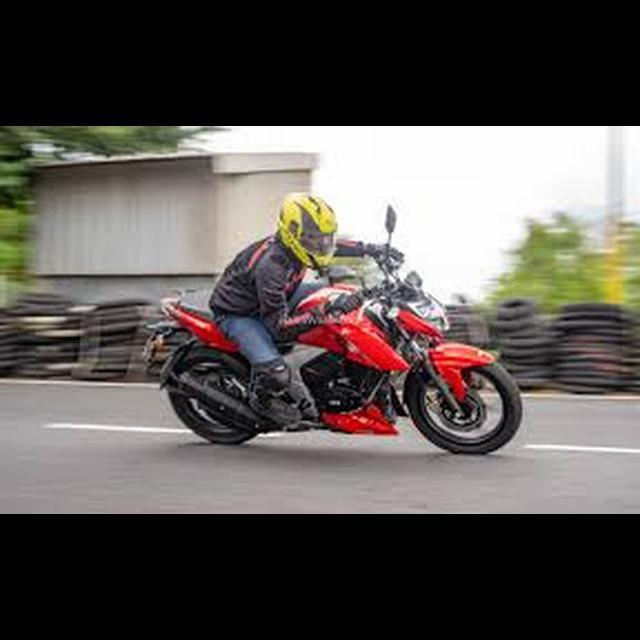motorcycle: (137, 201, 529, 460)
